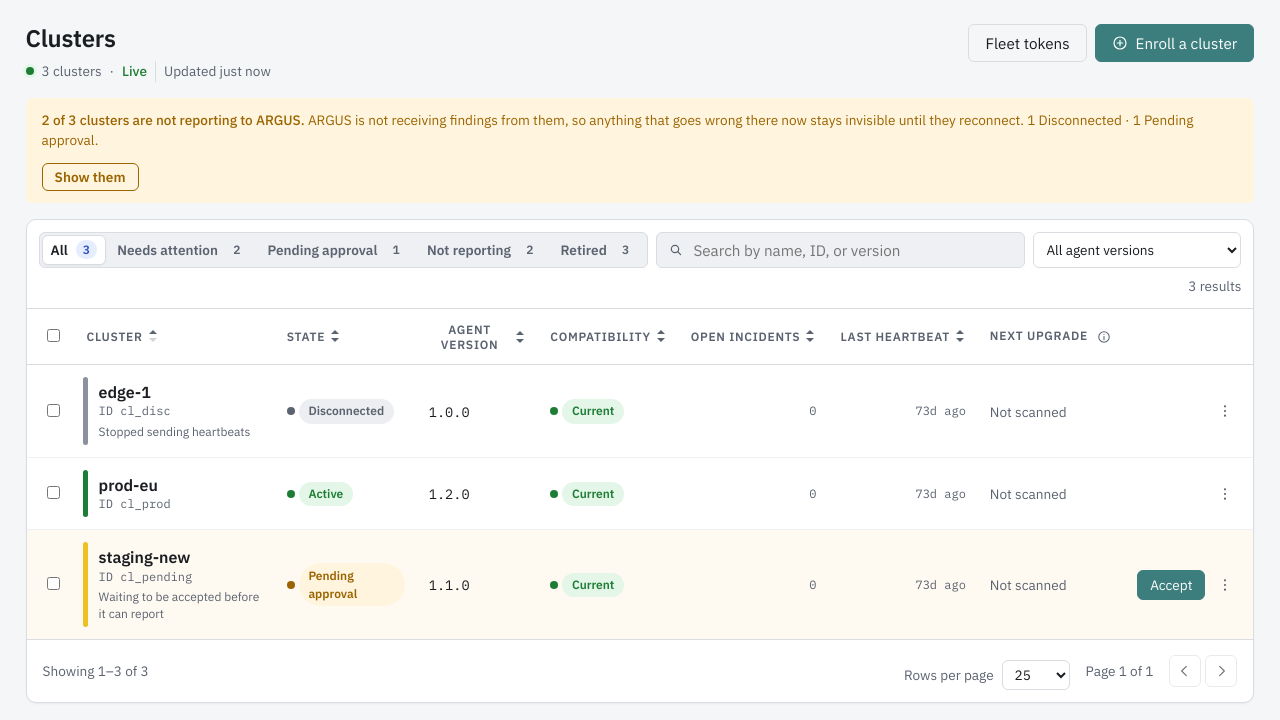
ClustersPage — search, state, version filters and quick views › the agent-version dropdown isolates clusters on that version
This screenshot has width=1280, height=720.
Check: the link "prod-eu" is shown, box x1=99 y1=474 x2=158 y2=496
Select "1.0.0" in the dropdown named "Filter by agent version" at {"x": 1137, "y": 250}, box x1=1033 y1=232 x2=1241 y2=268
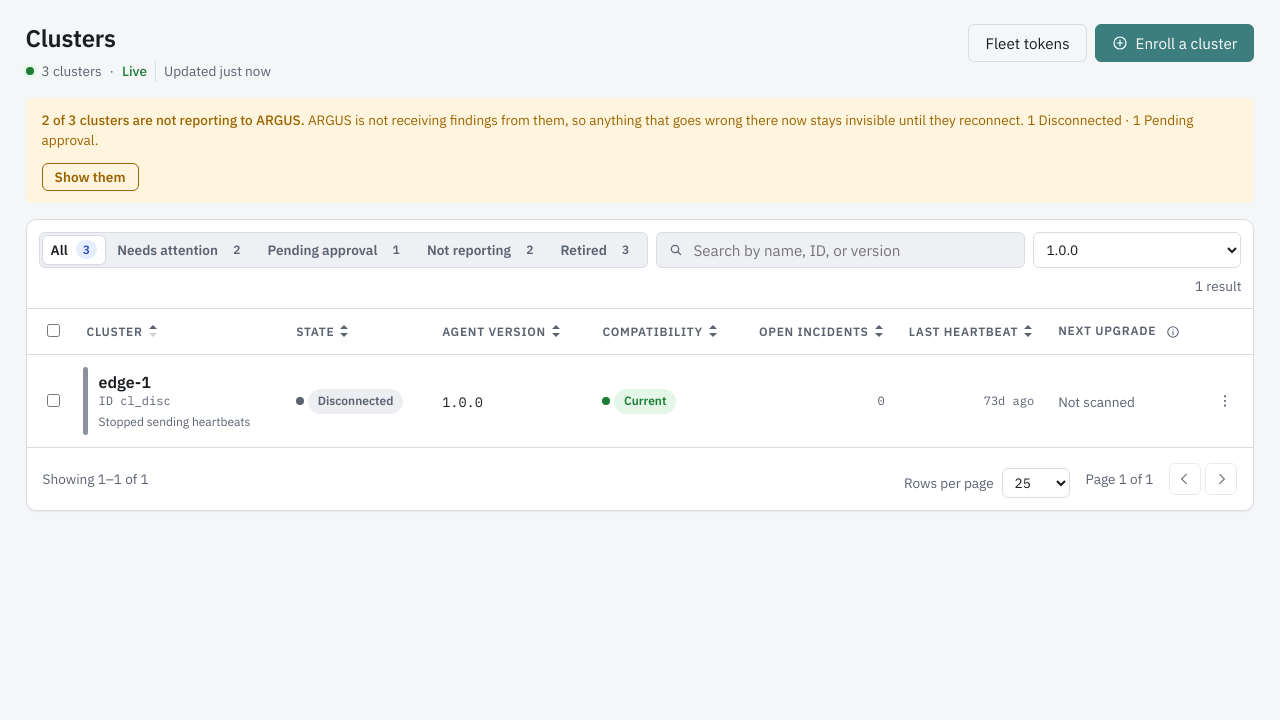
Check: the link "edge-1" is shown, box x1=99 y1=371 x2=151 y2=393
Check: the link "prod-eu" is gone
Check: the link "staging-new" is gone
